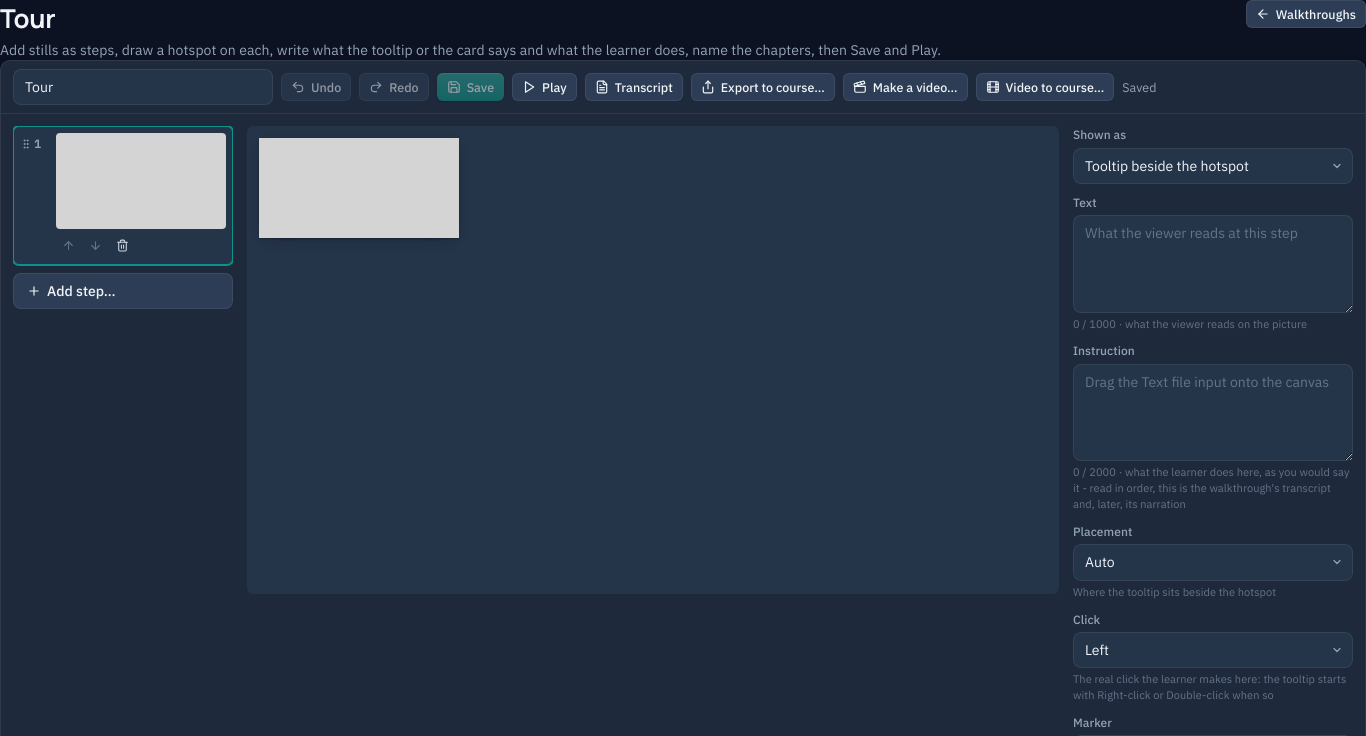
Test: Export to course… › is in the toolbar and opens the dialog, which previews the export
Click the button "Export to course…": {"x": 763, "y": 87} top-left (691, 73), bottom-right (835, 101)
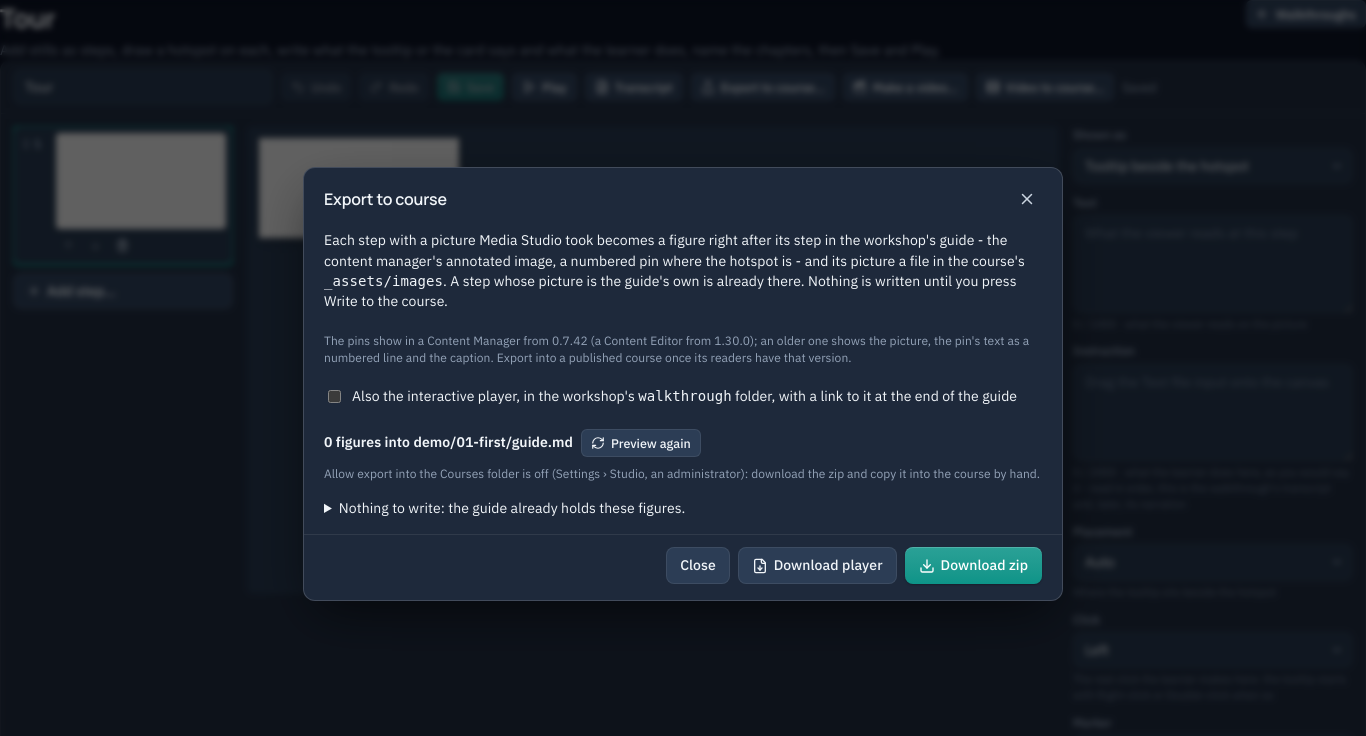
Expected: the element that starts with "0 figures into demo/01-first/guide.md" is shown, top-left (324, 429), bottom-right (1042, 518)
